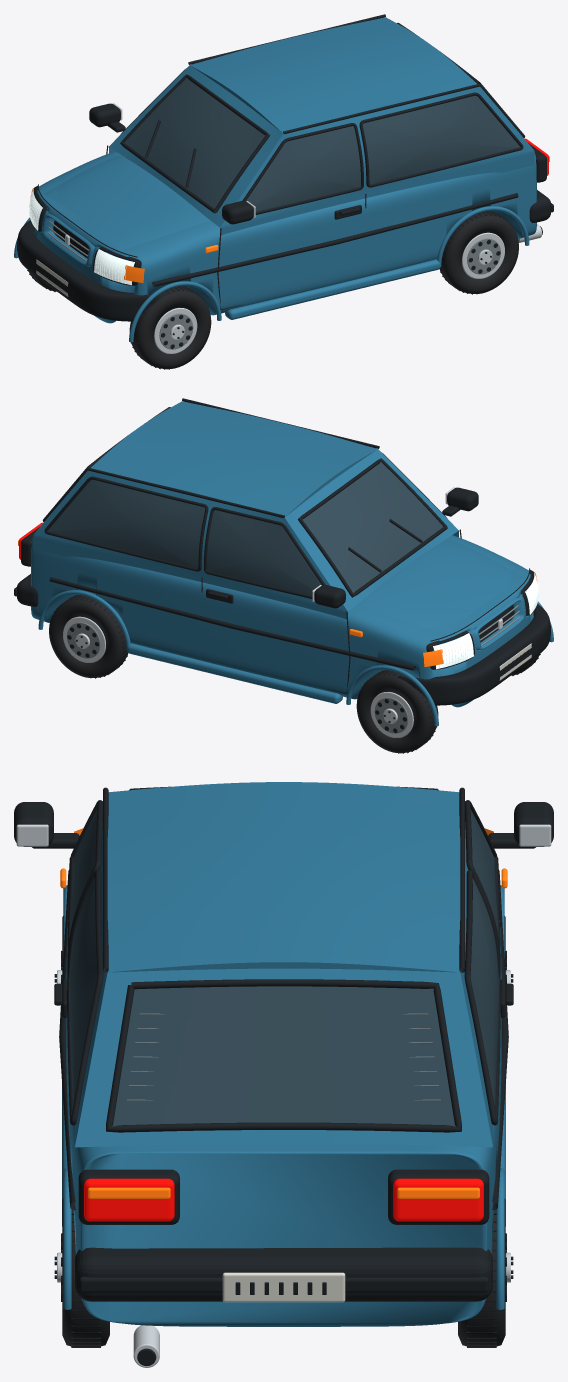
File: oka.glb
3 views of the same model, one above another, from view 1: azimuth 30°, elevation 25°; view 2: azimuth 150°, elevation 25°; view 3: azimuth 270°, elevation 25° (orthographic). The views are drawn at different scales.
Visible parts, largest first — view 1: Body_Paint_oka, Body_Curved smoked glass.002, Body_Black trim.002, StockBumpers_Black trim.002, Wheel_RR_Tyre.002, Wheel_FR_Tyre.002, StockSkirts_Paint_oka, StockFenders_Paint_oka, Body_Prismatic headlight glass.002, Wheel_FR_Machined aluminium.002, Wheel_RR_Machined aluminium.002, Wheel_FR_Brake steel.002 (+2 smaller); view 2: Body_Paint_oka, Body_Curved smoked glass.002, Body_Black trim.002, StockBumpers_Black trim.002, Wheel_RL_Tyre.002, Wheel_FL_Tyre.002, StockSkirts_Paint_oka, StockFenders_Paint_oka, Body_Prismatic headlight glass.002, Wheel_FL_Machined aluminium.002, Wheel_RL_Machined aluminium.002, Wheel_FL_Brake steel.002 (+2 smaller); view 3: Body_Paint_oka, Body_Curved smoked glass.002, Body_Black trim.002, StockBumpers_Black trim.002, Body_Red lens.002, Body_Numberplate.002, StockFenders_Paint_oka, Body_Amber lens.002, Body_Machined aluminium.002, Wheel_RR_Tyre.002, Wheel_RL_Tyre.002, StockSkirts_Paint_oka (+2 smaller).
Part boxes in pixels (x1,y1,x2,y2): Body_Paint_oka: (34,17,536,323); Body_Curved smoked glass.002: (124,78,519,211); Body_Black trim.002: (31,14,546,290); StockBumpers_Black trim.002: (17,190,553,321); Wheel_RR_Tyre.002: (439,211,518,293); Wheel_FR_Tyre.002: (129,286,211,369); StockSkirts_Paint_oka: (225,259,440,319); StockFenders_Paint_oka: (14,206,529,342); Body_Prismatic headlight glass.002: (29,189,134,285); Wheel_FR_Machined aluminium.002: (154,308,197,353); Wheel_RR_Machined aluminium.002: (462,232,504,278); Wheel_FR_Brake steel.002: (159,313,193,349); Body_Paint_oka: (31,401,533,707); Body_Curved smoked glass.002: (48,462,443,595); Body_Black trim.002: (21,398,536,673); StockBumpers_Black trim.002: (14,574,550,705); Wheel_RL_Tyre.002: (49,595,128,677); Wheel_FL_Tyre.002: (356,670,438,753); StockSkirts_Paint_oka: (127,643,342,703); StockFenders_Paint_oka: (38,590,553,726); Body_Prismatic headlight glass.002: (433,573,538,669); Wheel_FL_Machined aluminium.002: (370,692,413,737); Wheel_RL_Machined aluminium.002: (63,616,105,662); Wheel_FL_Brake steel.002: (374,697,408,733); Body_Paint_oka: (66,782,501,1326); Body_Curved smoked glass.002: (68,809,499,1126); Body_Black trim.002: (14,786,553,1365); StockBumpers_Black trim.002: (75,1247,492,1301); Body_Red lens.002: (84,1178,483,1221); Body_Numberplate.002: (222,1272,345,1302); StockFenders_Paint_oka: (63,885,504,1309); Body_Amber lens.002: (60,828,507,1198); Body_Machined aluminium.002: (16,824,551,1367); Wheel_RR_Tyre.002: (62,1198,109,1346); Wheel_RL_Tyre.002: (458,1198,505,1346); StockSkirts_Paint_oka: (62,1084,505,1226).
Size of the model in its own units: 3.21 by 1.4 by 1.76.
